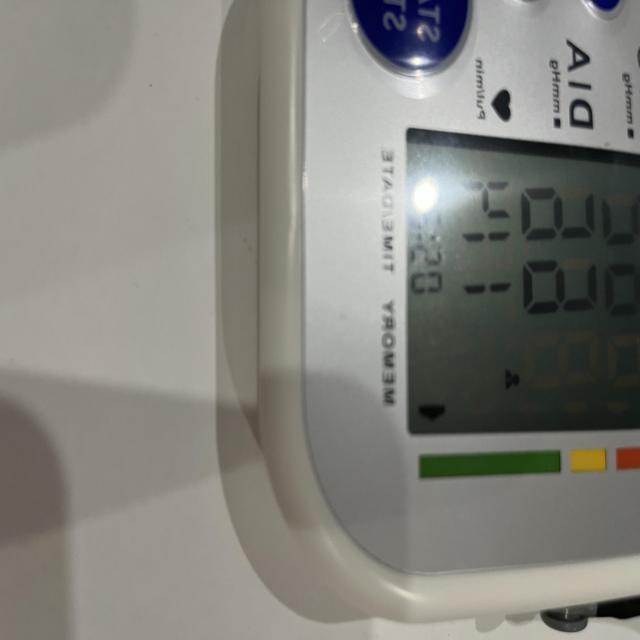bp: (214, 0, 640, 635)
